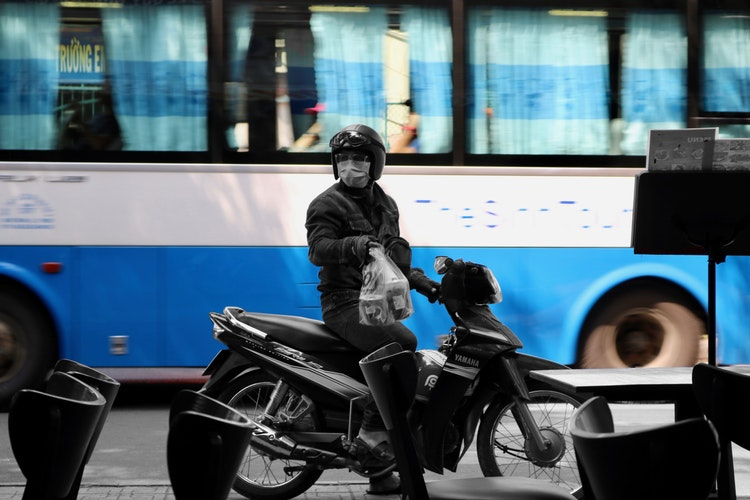helmet: (319, 119, 397, 179)
